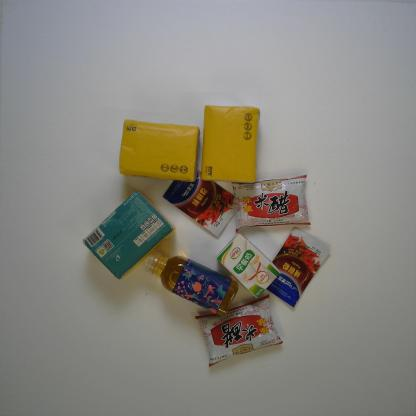Drink: (142, 250, 240, 318)
Milk: (214, 232, 282, 300)
Seasoner: (194, 294, 284, 368), (265, 226, 332, 309), (162, 169, 238, 238), (232, 174, 312, 233)
Tissue: (81, 190, 176, 282), (118, 118, 201, 184), (200, 104, 261, 184)
